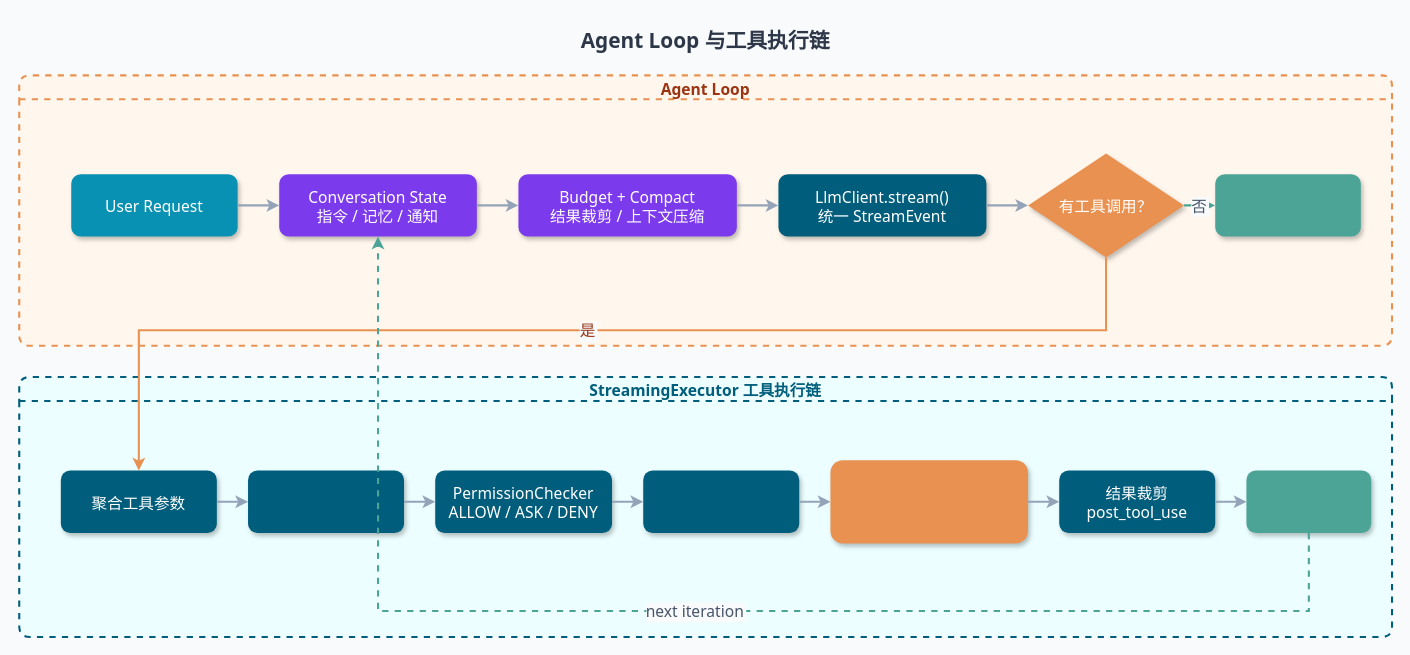
This 1410x655 diagram has some shape labels left out. Here are the shapes that lost their labels. From the top down, the centre of each, then its label:
At (x=1289, y=206): "LoopComplete 返回最终结果".
At (x=326, y=503): "ToolRegistry 查找工具".
At (x=722, y=503): "pre_tool_use Hook 可拒绝".
At (x=930, y=503): "Tool.execute READ 并行 WRITE / COMMAND 串行".
At (x=1309, y=503): "ToolResult 写回 Conversation".
